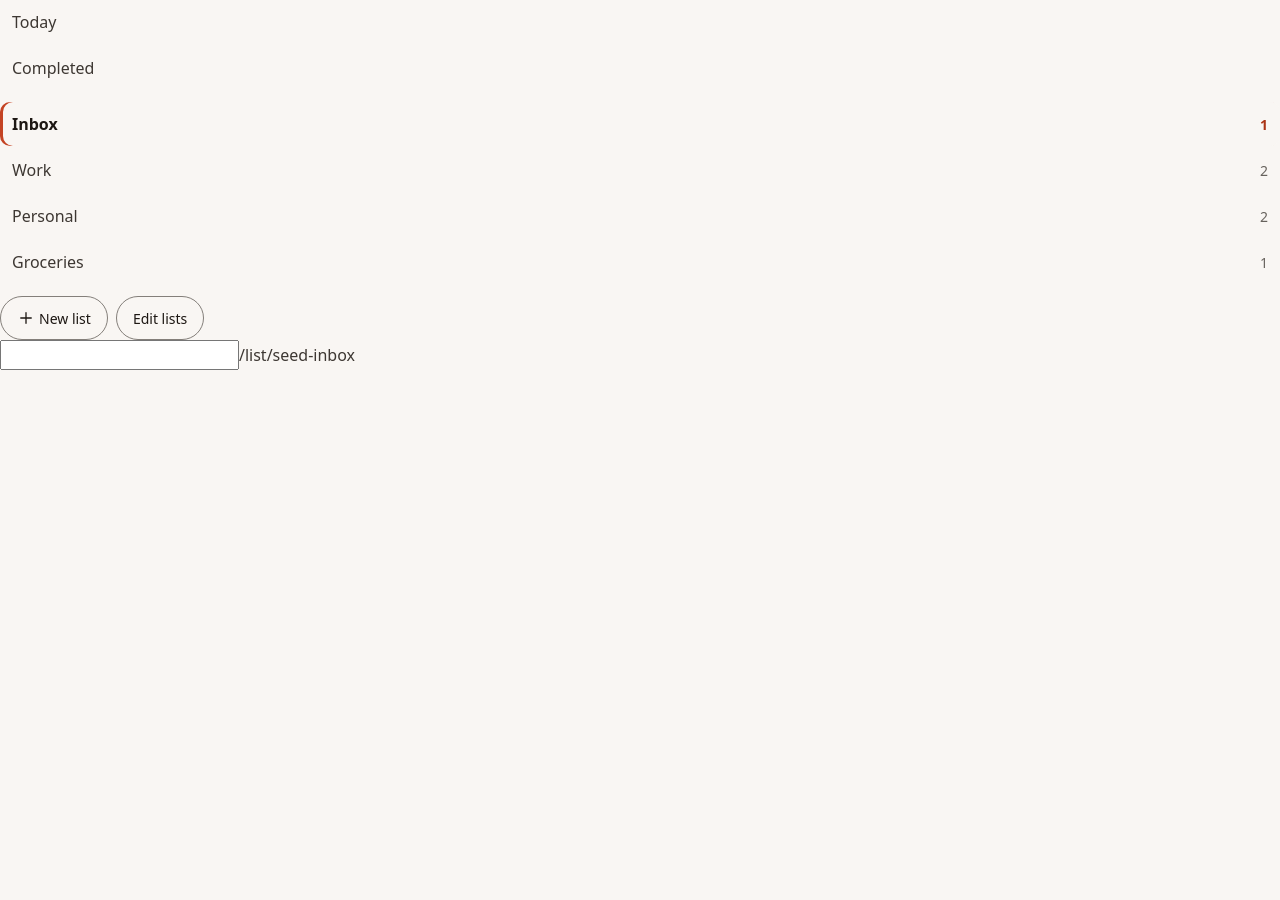
ListNav › deleting › asks about a non-empty list and moves its tasks to the Inbox
This screenshot has width=1280, height=900.
Check: the link "Work 2" is shown, box [12,159,1268,181]
Click the button "Edit lists" at (160, 318), box [116,296,204,340]
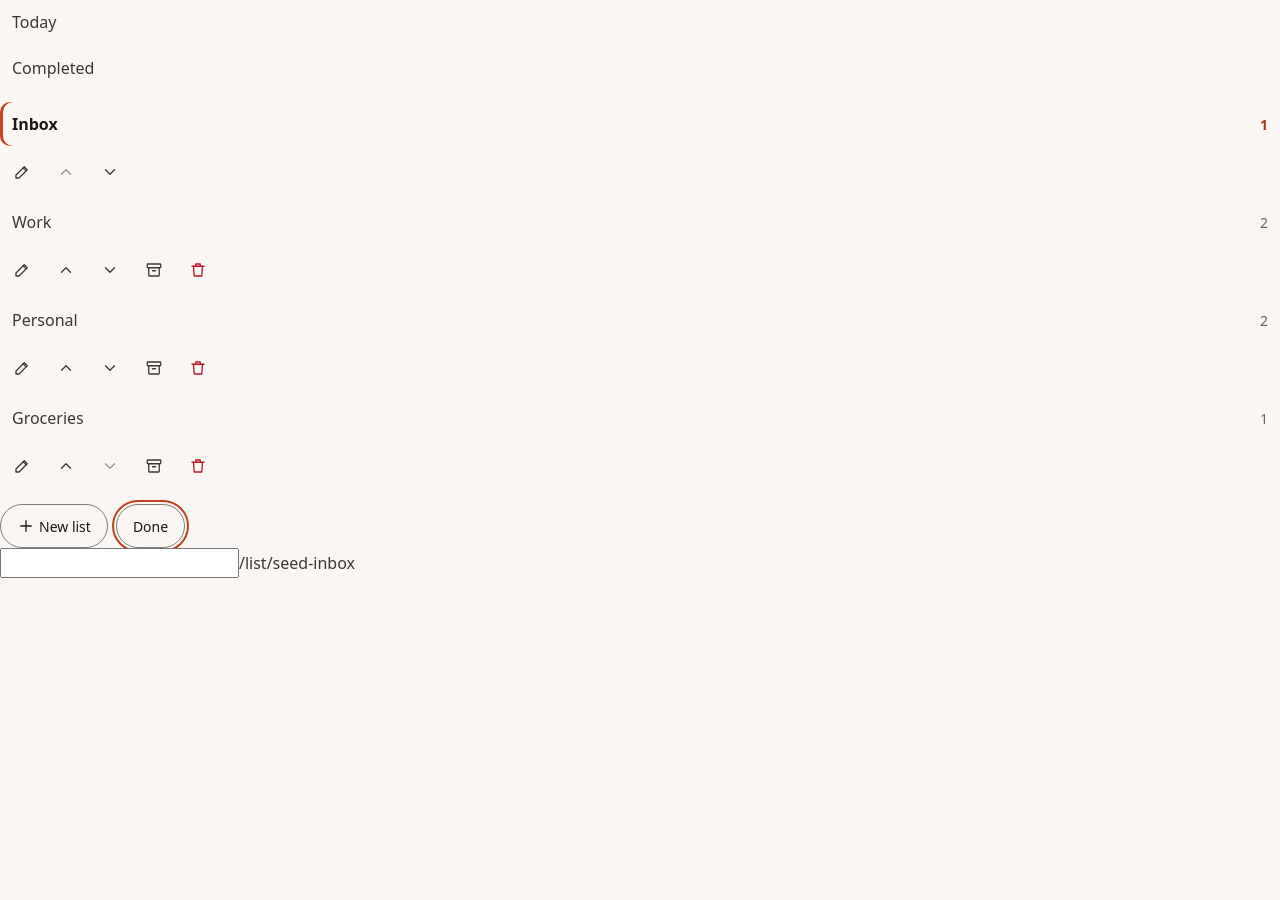
Click the button named "Delete Work" at (198, 270), box [176,248,220,292]
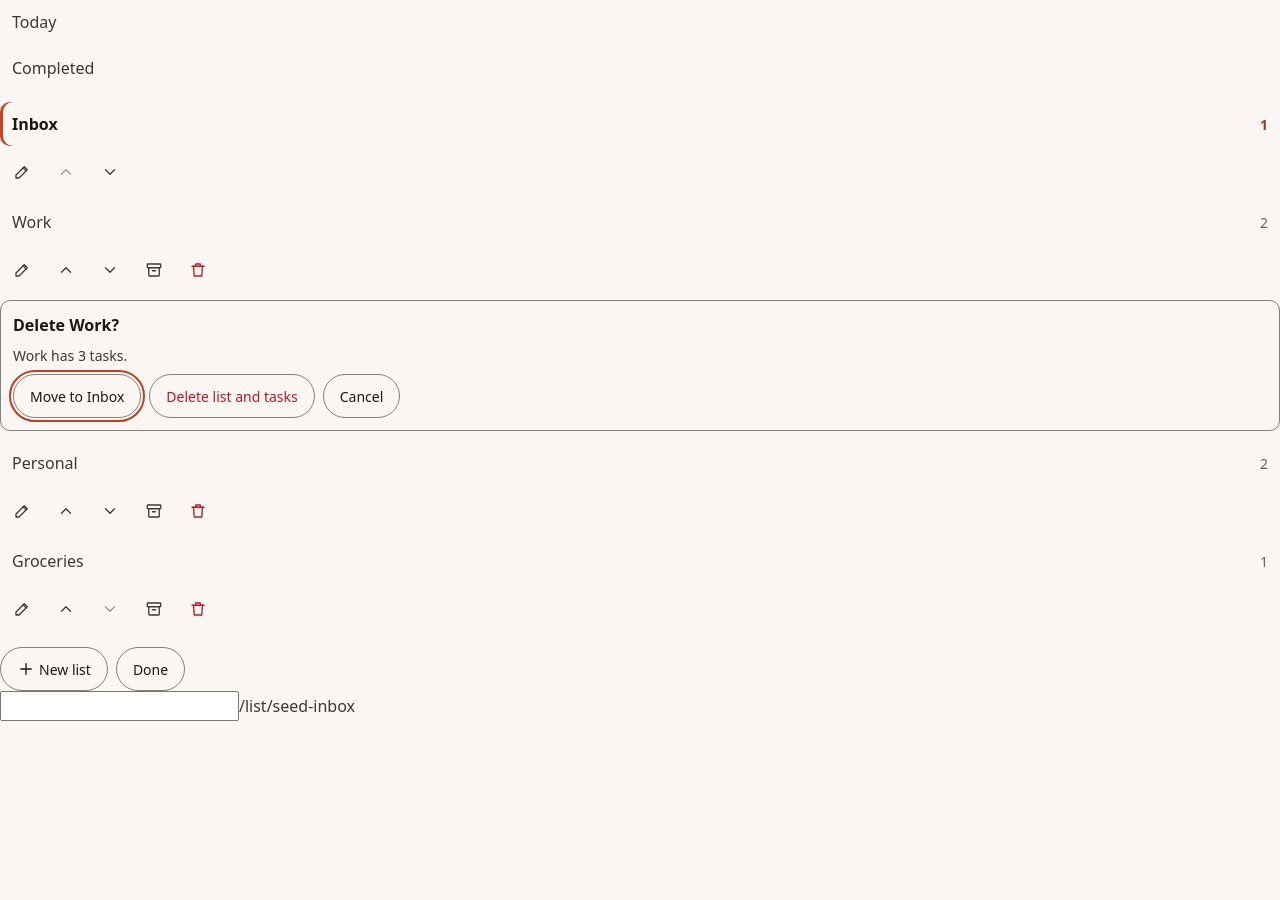
Check: the dialog "Delete Work?" shows "Work has 3 tasks.", box [13,346,127,365]
Click the button "Move to Inbox" at (77, 396), box [13,374,141,418]
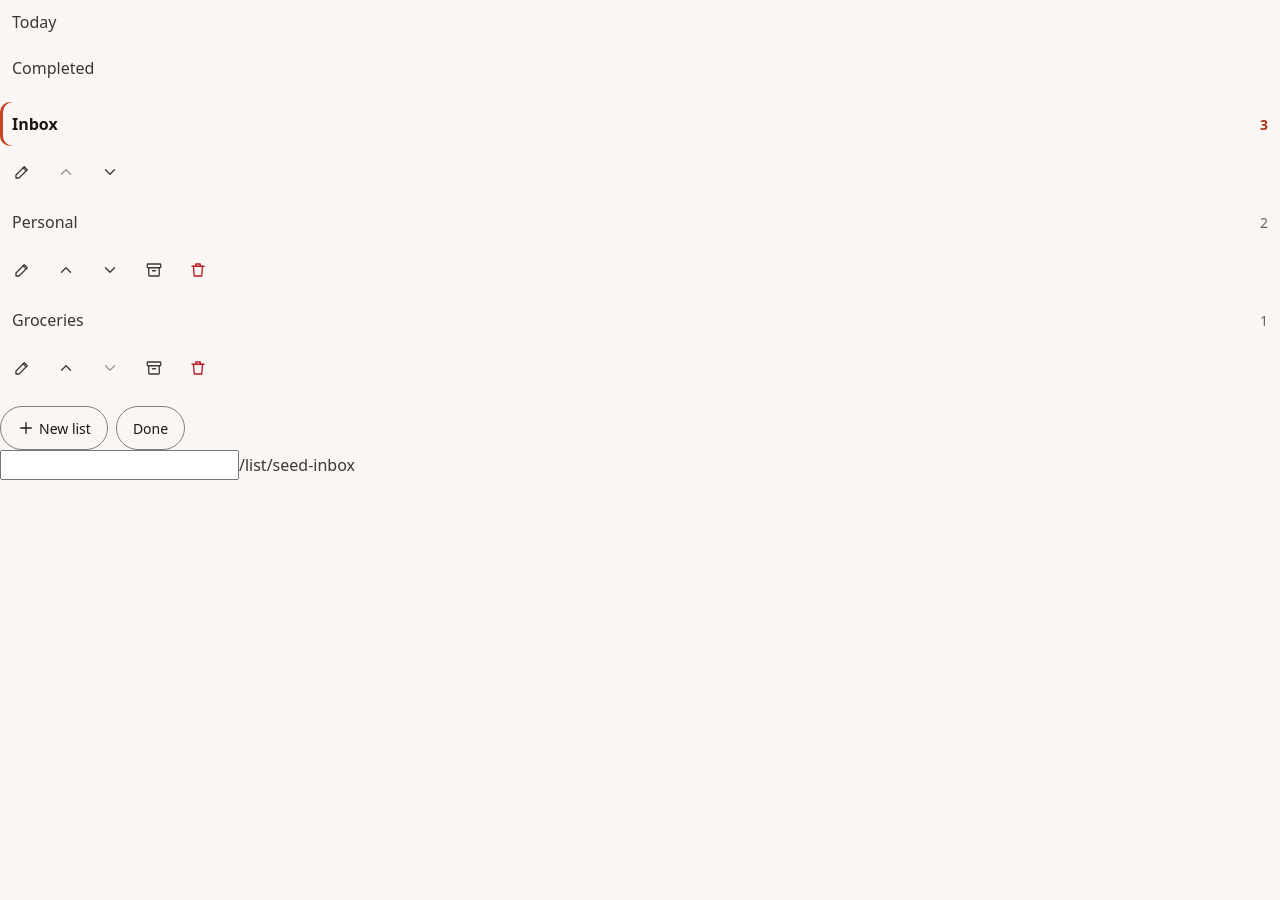
Check: the link "Work" no longer shows "Work"
